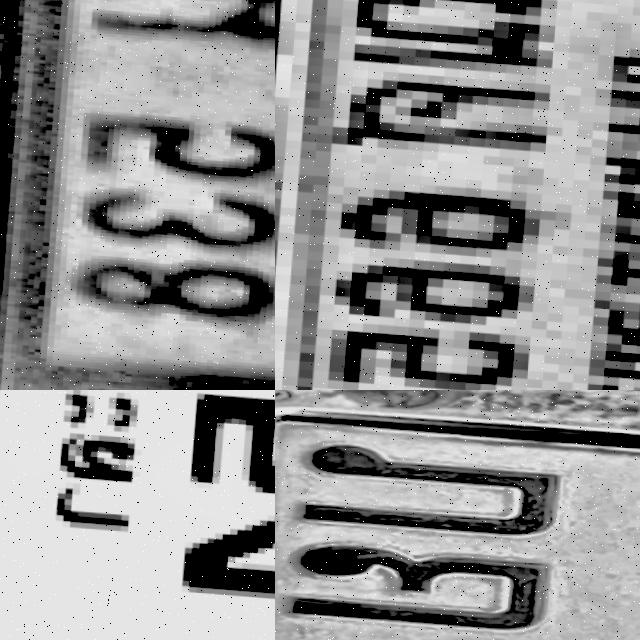license-plate: (275, 0, 640, 390), (0, 0, 275, 390), (275, 390, 640, 640), (0, 390, 275, 640)
